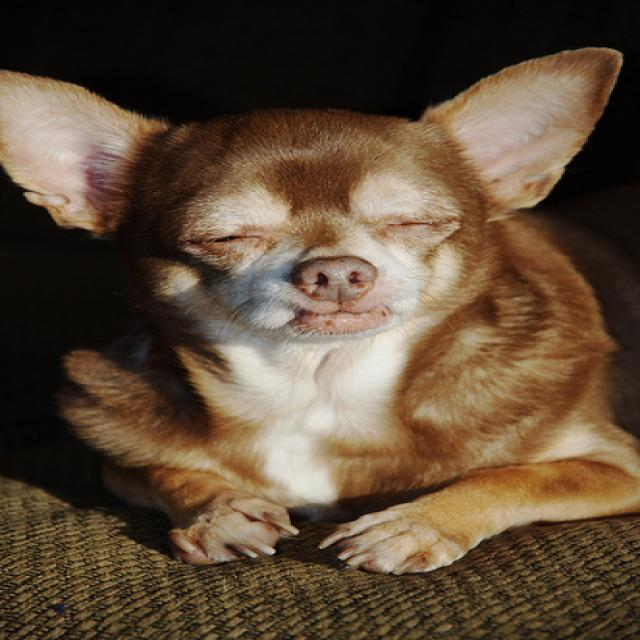dog-chihuahua: (2, 33, 636, 588)
